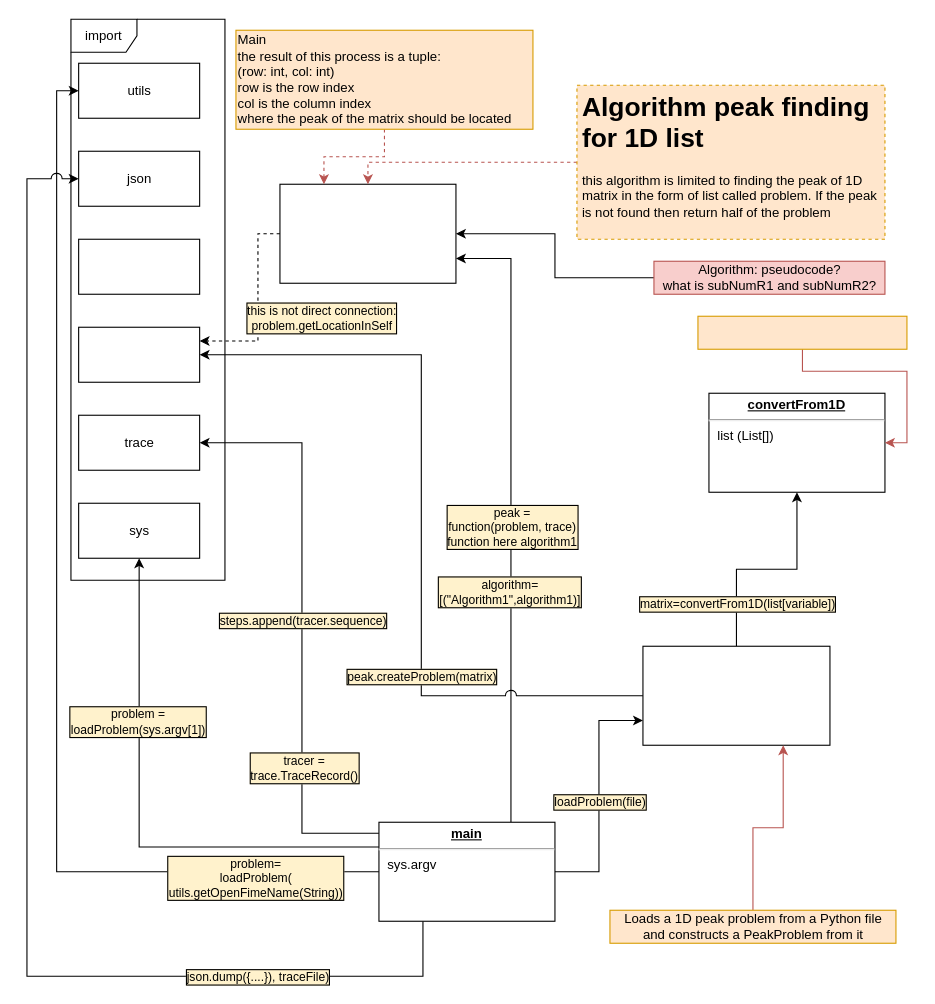
Image size: 935x1004. Some labels were removed from this diagram. The shapes that lost their labels are listed below. From the top down, each one's box as (x1, y1, x2, y2) in pixels, then its label:
(279, 183, 456, 283): algorithm1: (row, col):tuple problem = [1D matrix] trace =
(78, 238, 200, 294): algorithms
(697, 315, 907, 349): Convert from a list to a matrix with the appropriate dimension
(78, 326, 200, 382): peak
(642, 645, 830, 745): loadProblem: peak.createProblem(matrix) file (string) = variable (string)
